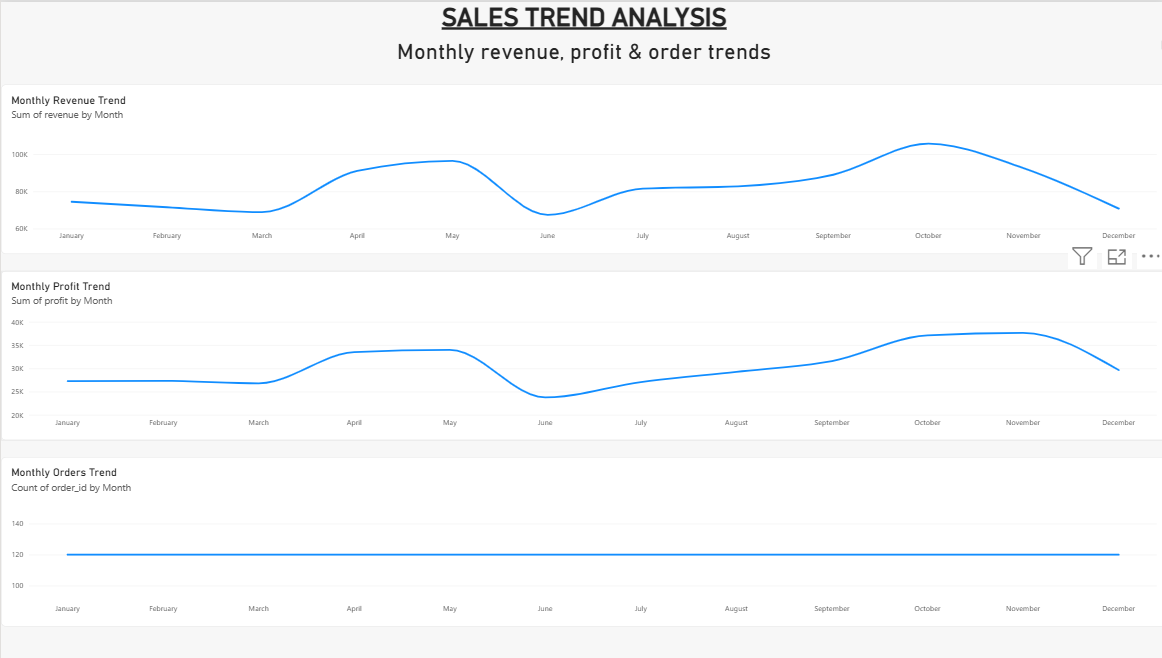

The page's visual inventory and layout, read from the dashboard file:
{"tool":"powerbi","page":{"name":"Page 5","canvas":[1920,1080],"ordinal":4},"visuals":[{"type":"lineChart","title":"Monthly Revenue Trend","fields":{"Category":["sales_portfolio sales_data.order_date.Variation.Date Hierarchy.Month"],"Y":["Sum(sales_portfolio sales_data.revenue)"]},"box":[0,136.4,1920.5,279.5],"z":0},{"type":"lineChart","title":"Monthly Profit Trend","fields":{"Category":["sales_portfolio sales_data.order_date.Variation.Date Hierarchy.Month"],"Y":["Sum(sales_portfolio sales_data.profit)"]},"box":[0,443.2,1920.5,279.5],"z":1000},{"type":"lineChart","title":"Monthly Orders Trend","fields":{"Category":["sales_portfolio sales_data.order_date.Variation.Date Hierarchy.Month"],"Y":["CountNonNull(sales_portfolio sales_data.order_id)"]},"box":[0,750,1920.5,279.5],"z":2000},{"type":"textbox","title":"SALES TREND ANALYSIS","box":[0,0,1920.5,77.3],"z":3000},{"type":"textbox","title":"Monthly revenue, profit & order trends","box":[0,59.1,1920.5,77.3],"z":4000}]}

Visuals, with their boxes in screenshot pixels (x1, y1, x2, y2), scaled from the page's 1920x1080 canvas onto the 1162x658 screenshot:
"Monthly Revenue Trend" lineChart: 0:83:1161:253
"Monthly Profit Trend" lineChart: 0:270:1161:440
"Monthly Orders Trend" lineChart: 0:457:1161:627
"SALES TREND ANALYSIS" textbox: 0:0:1161:47
"Monthly revenue, profit & order trends" textbox: 0:36:1161:83
